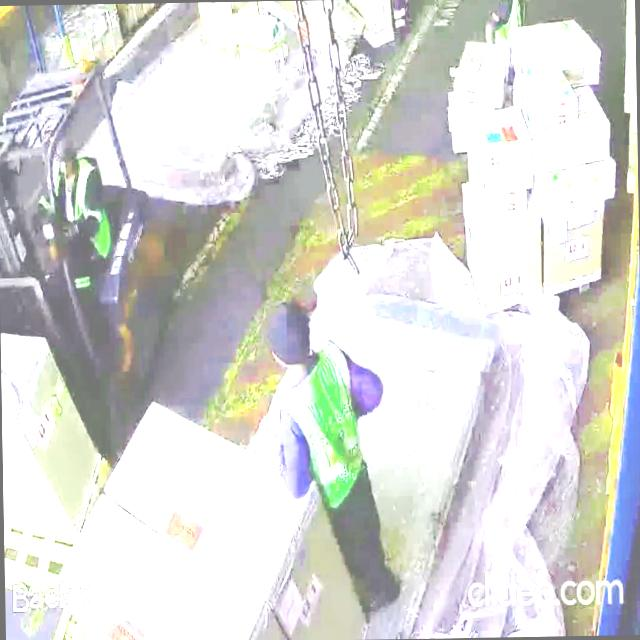Box: (116, 409, 328, 568), (80, 514, 238, 640), (463, 213, 544, 298), (542, 211, 604, 291), (234, 12, 293, 96), (511, 21, 598, 77), (473, 110, 533, 170), (452, 36, 503, 104), (543, 130, 614, 167), (543, 170, 615, 203), (524, 72, 570, 119)
